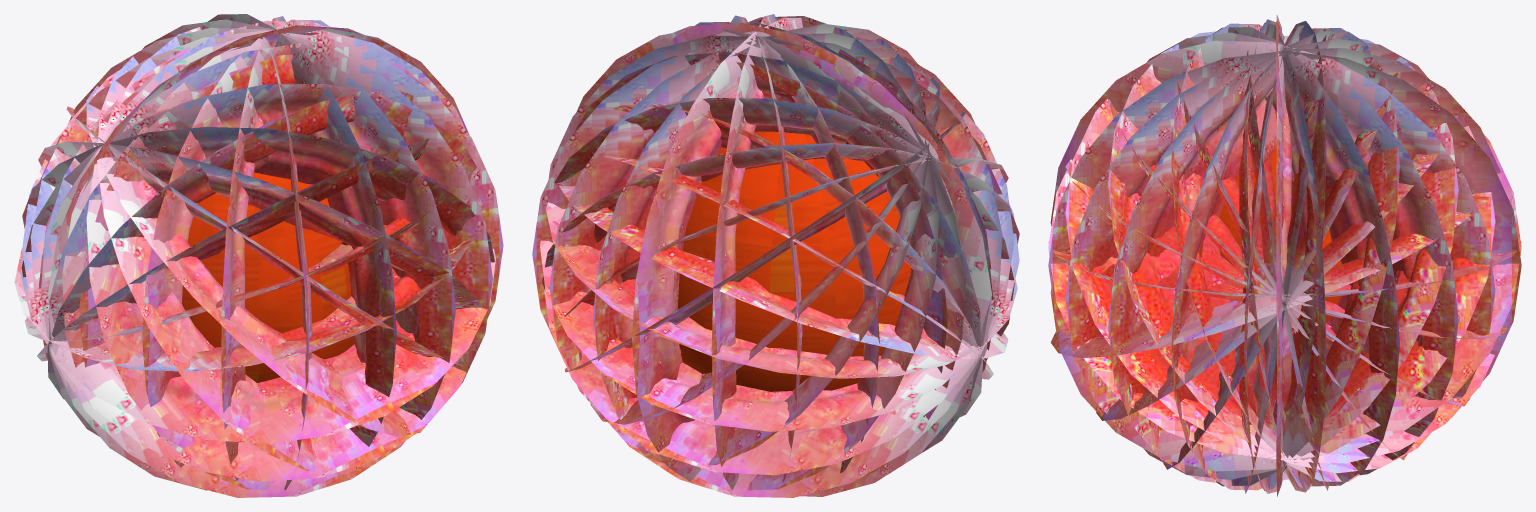
File: supernova.dae
3 renders of one model, left to right at view 1: azimuth 30°, elevation 25°; view 2: azimuth 150°, elevation 25°; view 3: azimuth 270°, elevation 25°, orthographic.
Parts seen in each view (by area): view 1: SketchUp (×31); view 2: SketchUp (×31); view 3: SketchUp (×30).
Boxes of the visible parts, left/top/right/bottom form: SketchUp (×31): left=14, top=14, right=503, bottom=497; SketchUp (×31): left=532, top=14, right=1019, bottom=497; SketchUp (×30): left=1048, top=16, right=1521, bottom=496.
Bounding box in the file's own units: 907 × 863 × 883.
2 materials, 2 textured.
